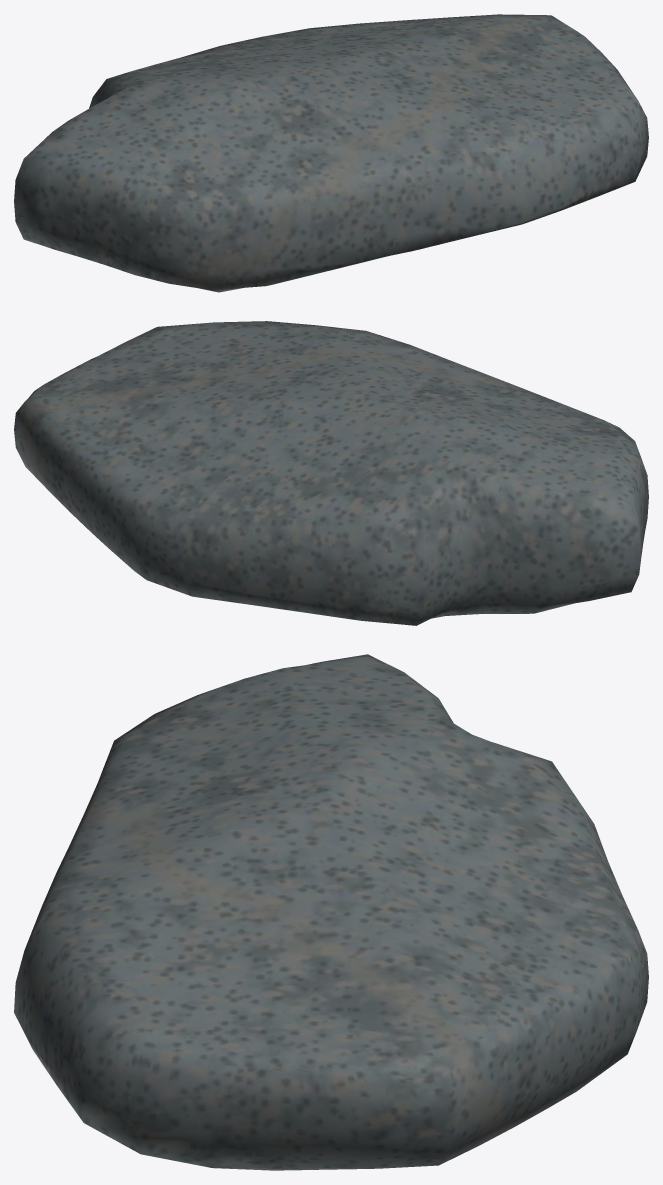
File: jagged_gravel_03.glb
3 views of the same model, one above another, from view 1: azimuth 30°, elevation 25°; view 2: azimuth 150°, elevation 25°; view 3: azimuth 270°, elevation 25° (orthographic). The views are drawn at different scales.
Parts seen in each view (by area): view 1: jagged_gravel_03; view 2: jagged_gravel_03; view 3: jagged_gravel_03.
Part boxes in pixels (x1,y1,x2,y2): jagged_gravel_03: (14,14,648,292); jagged_gravel_03: (14,321,648,625); jagged_gravel_03: (14,654,648,1170).
Bounding box in the file's own units: 0.0745 × 0.0202 × 0.0492.
1 material, 1 textured.
